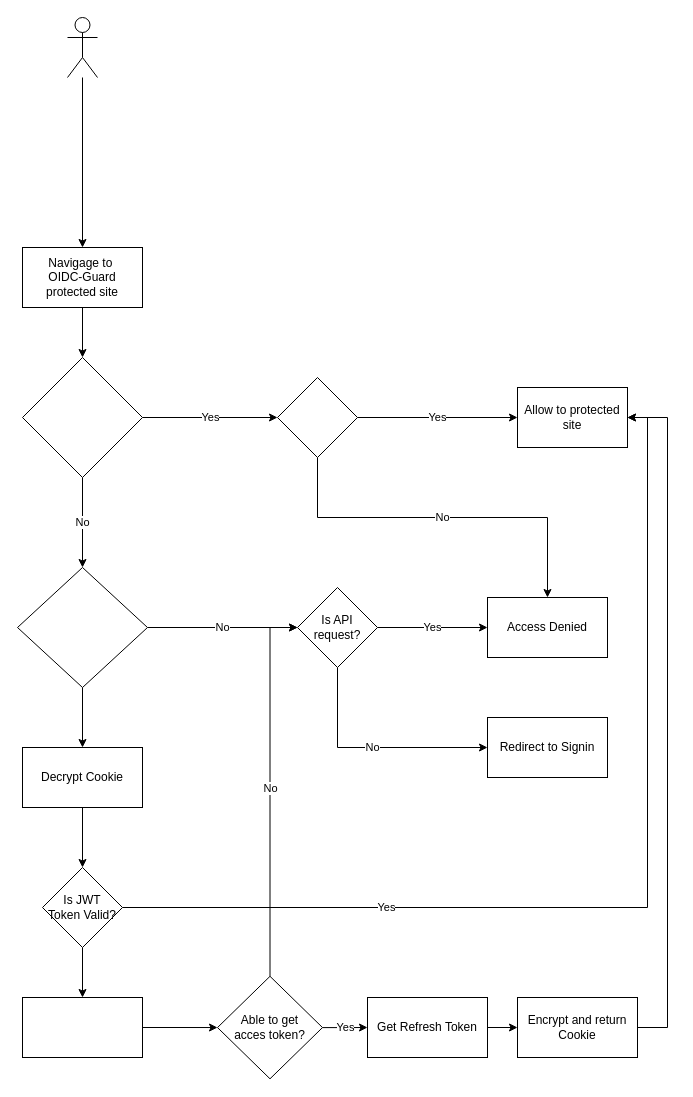
The diagram is 693 pixels wide and 1097 high, and some of its shapes have lost their labels. Here are the shapes that lost their labels. From the top down, the box of each, then its label:
(66, 16, 98, 78): Actor
(22, 356, 142, 478): Does Authorization Header exist?
(276, 376, 358, 458): Is JWT Token Valid
(16, 566, 148, 688): Does OIDC-Guard Cookie exit?
(22, 996, 142, 1058): Get new Access Token
